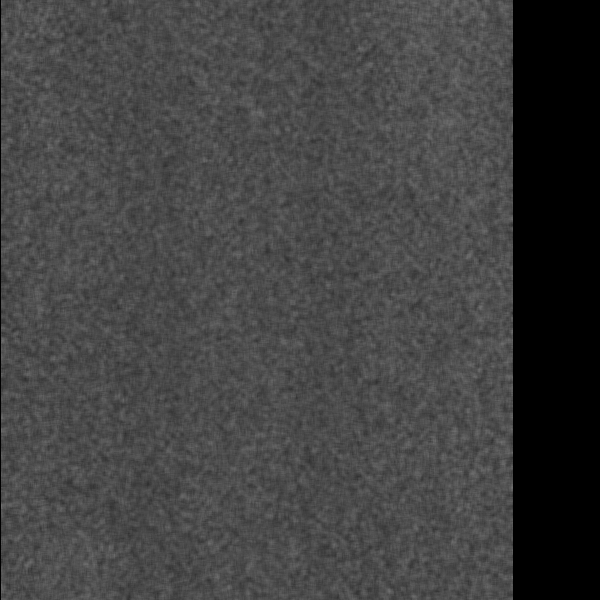spark: (90, 379, 114, 435), (364, 53, 388, 106)
